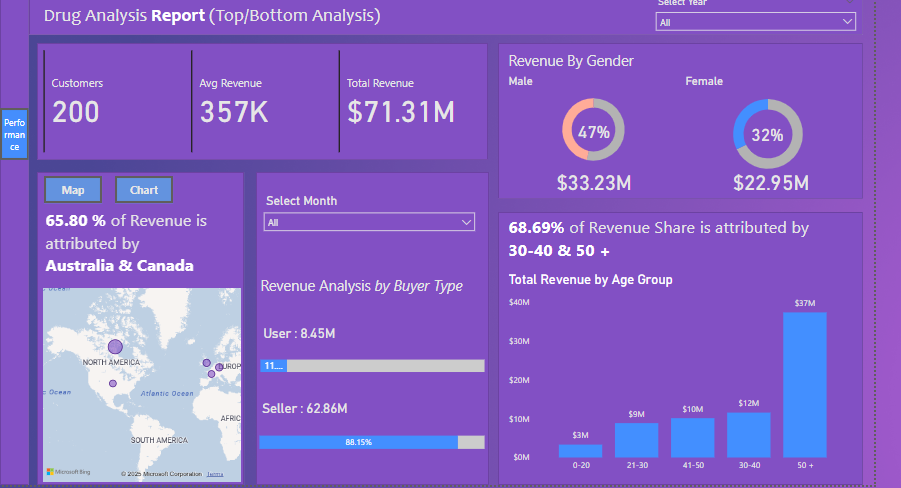

The page's visual inventory and layout, read from the dashboard file:
{"tool":"powerbi","page":{"name":"Customers","canvas":[1280,720],"ordinal":1},"visuals":[{"type":"shape","box":[728.8,73.2,534.1,228.3],"z":0},{"type":"shape","box":[54.1,73.2,660,171.2],"z":1000},{"type":"shape","box":[374.6,262,341,458],"z":2000},{"type":"shape","box":[728.8,320.5,534.1,399.5],"z":3000},{"type":"donutChart","title":"Female ","fields":{"Y":["Calculations.R:Female","Calculations.Female Revenue Percentage"]},"box":[998,118.5,251.7,156.6],"z":4000},{"type":"cardVisual","fields":{"Data":["Calculations.Customers","Calculations.Avg Revenue","Calculations.Total Revenue"]},"box":[58.5,79,652.7,159.5],"z":5000},{"type":"donutChart","title":"Male ","fields":{"Y":["Calculations.R:Male","Calculations.Male Revenue %"]},"box":[739,118.5,259,143.4],"z":6000},{"type":"card","fields":{"Values":["Calculations.Male Revenue %"]},"box":[837.1,180,64.4,43.9],"z":7000},{"type":"card","fields":{"Values":["Calculations.Female Revenue Percentage"]},"box":[1091.7,190.2,62.9,33.7],"z":8000},{"type":"columnChart","fields":{"Category":["CustomerTable.Age Group"],"Y":["Calculations.Total Revenue"]},"box":[739,408.3,510.7,301.5],"z":9000},{"type":"textbox","box":[739,320.5,510.7,87.8],"z":10000},{"type":"shape","box":[54.1,262,302.9,458],"z":11000},{"type":"hundredPercentStackedBarChart","fields":{"Y":["Calculations.Seller Revenue %","Calculations.R:seller"]},"box":[374.6,608.8,339.5,90.7],"z":13000},{"type":"textbox","box":[376.1,408.3,339.5,57.1],"z":14000},{"type":"card","fields":{"Values":["Calculations.Seller"]},"box":[376.1,588.3,139,39.5],"z":15000},{"type":"card","fields":{"Values":["Calculations.User"]},"box":[374.6,478.5,125.9,39.5],"z":16000},{"type":"map","fields":{"Category":["CustomerTable.Country"],"Size":["Calculations.Total Revenue"]},"box":[58.5,427.3,298.5,292.7],"z":17000},{"type":"actionButton","box":[64.4,267.8,84.9,39.5],"z":19000},{"type":"actionButton","box":[168.3,267.8,84.9,39.5],"z":20000},{"type":"textbox","box":[61.5,310.2,285.4,117.1],"z":21000},{"type":"shape","box":[42.4,0,1220.5,61.5],"z":21001},{"type":"shape","box":[0,0,42.4,720],"z":21002},{"type":"textbox","box":[739,79,459.5,39.5],"z":21003},{"type":"card","fields":{"Values":["Calculations.Male Revenue"]},"box":[781.5,254.6,175.6,41],"z":21004},{"type":"card","fields":{"Values":["Calculations.Female Revenue"]},"box":[1047.8,254.6,161,41],"z":21006},{"type":"hundredPercentStackedBarChart","fields":{"Y":["Calculations.User Revenue %","Calculations.R:user %"]},"box":[376.1,499,338,86.3],"z":21007},{"type":"slicer","fields":{"Values":["Date Table.Month"]},"box":[376.1,288.3,329.3,86.3],"z":21008},{"type":"textbox","box":[58.5,10.2,542.9,51.2],"z":21009},{"type":"slicer","fields":{"Values":["Date Table.Year"]},"box":[949.8,0,313.2,61.5],"z":21010},{"type":"actionButton","box":[0,168.3,42.4,76.1],"z":21011}]}

Visuals, with their boxes on the page's 1280x720 design canvas (x1, y1, x2, y2). These are canvas units, not pixel positions in the 901x488 screenshot, which may show the page scaled, cropped or inside an application window:
shape: {"left": 729, "top": 73, "right": 1263, "bottom": 302}
shape: {"left": 54, "top": 73, "right": 714, "bottom": 244}
shape: {"left": 375, "top": 262, "right": 716, "bottom": 720}
shape: {"left": 729, "top": 320, "right": 1263, "bottom": 720}
"Female " donutChart: {"left": 998, "top": 118, "right": 1250, "bottom": 275}
cardVisual - Calculations.Customers x Calculations.Avg Revenue: {"left": 58, "top": 79, "right": 711, "bottom": 238}
"Male " donutChart: {"left": 739, "top": 118, "right": 998, "bottom": 262}
card - Calculations.Male Revenue %: {"left": 837, "top": 180, "right": 902, "bottom": 224}
card - Calculations.Female Revenue Percentage: {"left": 1092, "top": 190, "right": 1155, "bottom": 224}
columnChart - CustomerTable.Age Group x Calculations.Total Revenue: {"left": 739, "top": 408, "right": 1250, "bottom": 710}
textbox: {"left": 739, "top": 320, "right": 1250, "bottom": 408}
shape: {"left": 54, "top": 262, "right": 357, "bottom": 720}
hundredPercentStackedBarChart - Calculations.Seller Revenue % x Calculations.R:seller: {"left": 375, "top": 609, "right": 714, "bottom": 700}
textbox: {"left": 376, "top": 408, "right": 716, "bottom": 465}
card - Calculations.Seller: {"left": 376, "top": 588, "right": 515, "bottom": 628}
card - Calculations.User: {"left": 375, "top": 478, "right": 500, "bottom": 518}
map - CustomerTable.Country x Calculations.Total Revenue: {"left": 58, "top": 427, "right": 357, "bottom": 720}
actionButton: {"left": 64, "top": 268, "right": 149, "bottom": 307}
actionButton: {"left": 168, "top": 268, "right": 253, "bottom": 307}
textbox: {"left": 62, "top": 310, "right": 347, "bottom": 427}
shape: {"left": 42, "top": 0, "right": 1263, "bottom": 62}
shape: {"left": 0, "top": 0, "right": 42, "bottom": 720}
textbox: {"left": 739, "top": 79, "right": 1198, "bottom": 118}
card - Calculations.Male Revenue: {"left": 782, "top": 255, "right": 957, "bottom": 296}
card - Calculations.Female Revenue: {"left": 1048, "top": 255, "right": 1209, "bottom": 296}
hundredPercentStackedBarChart - Calculations.User Revenue % x Calculations.R:user %: {"left": 376, "top": 499, "right": 714, "bottom": 585}
slicer - Date Table.Month: {"left": 376, "top": 288, "right": 705, "bottom": 375}
textbox: {"left": 58, "top": 10, "right": 601, "bottom": 61}
slicer - Date Table.Year: {"left": 950, "top": 0, "right": 1263, "bottom": 62}
actionButton: {"left": 0, "top": 168, "right": 42, "bottom": 244}
